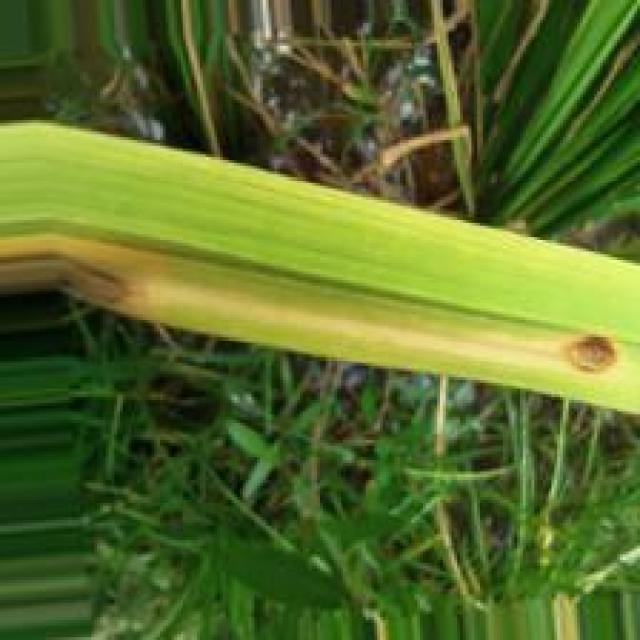Brown_Spot: (565, 336, 614, 377)
